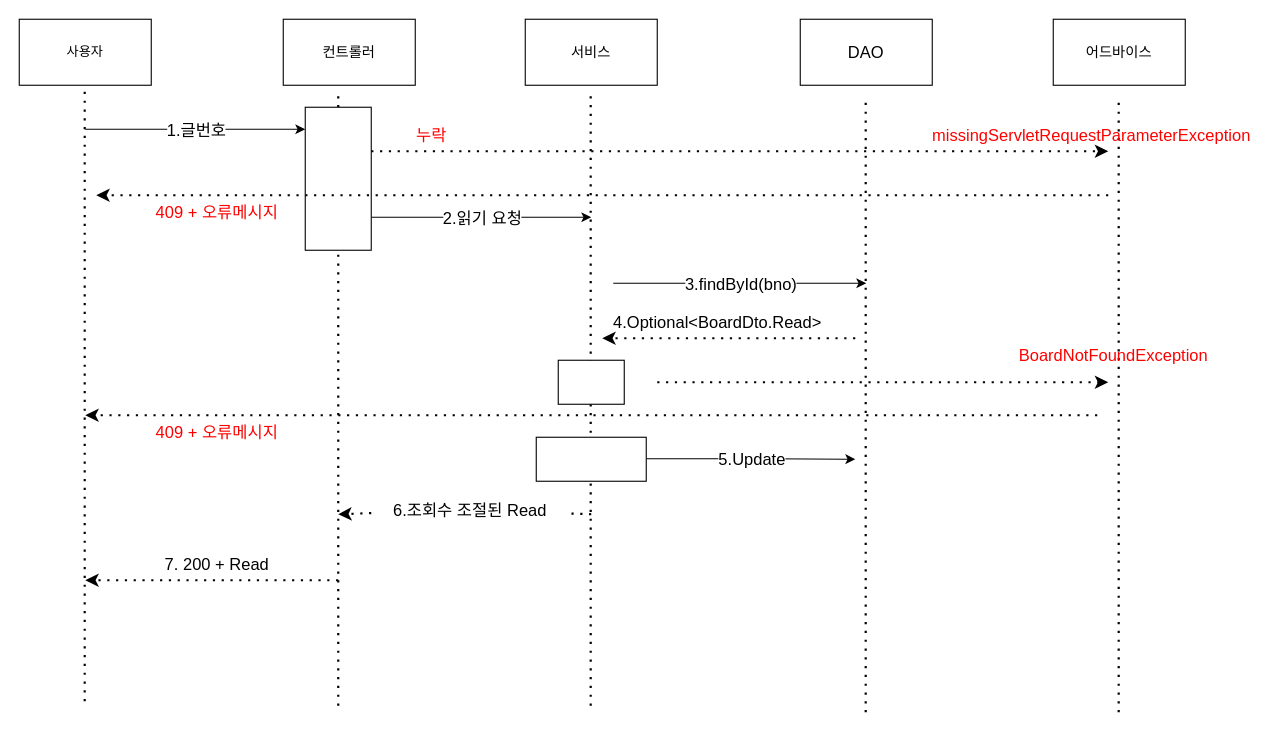
Some shapes in this 1269 by 734 pixel diagram are drawn without their labels. The shapes that lost their labels are listed below. From the top down, each one's centre as x and y in pixels, then its label:
(590,381): empty
(590,458): 읽기증가조건
